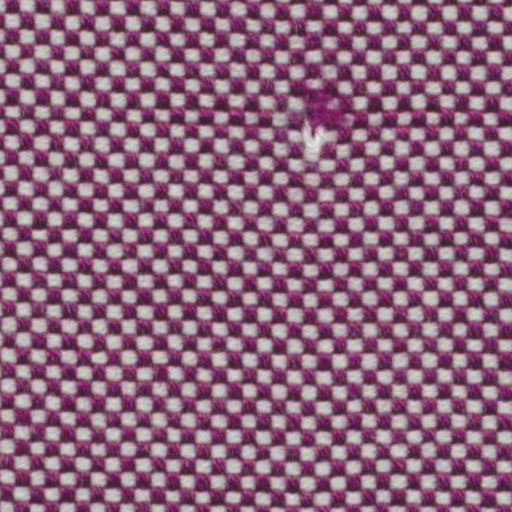MianQiu: (292, 71, 360, 166)
